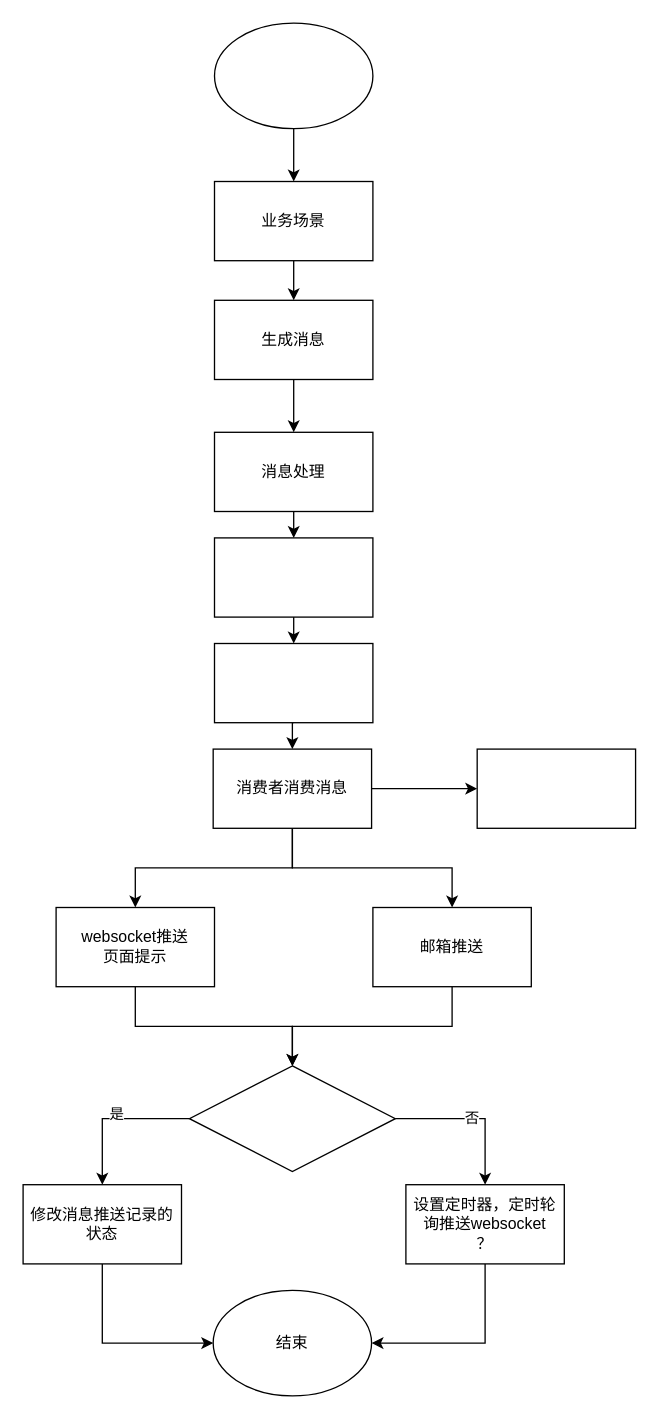
Image size: 659x1419. Some labels were removed from this diagram. The centre of each missing label's shape, as x and y in pixels:
创建事件，消息发送记录新增: point 293,577
发起rabbitmq推送: point 293,682
开始: point 293,75
是否被用户确认: point 291,1118
消费成功，修改消息发送记录的是否成功消费: point 556,788
